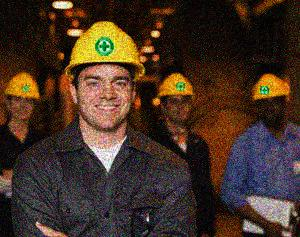helmet: (65, 18, 148, 130), (250, 71, 289, 127), (155, 71, 195, 122), (6, 70, 41, 121)
